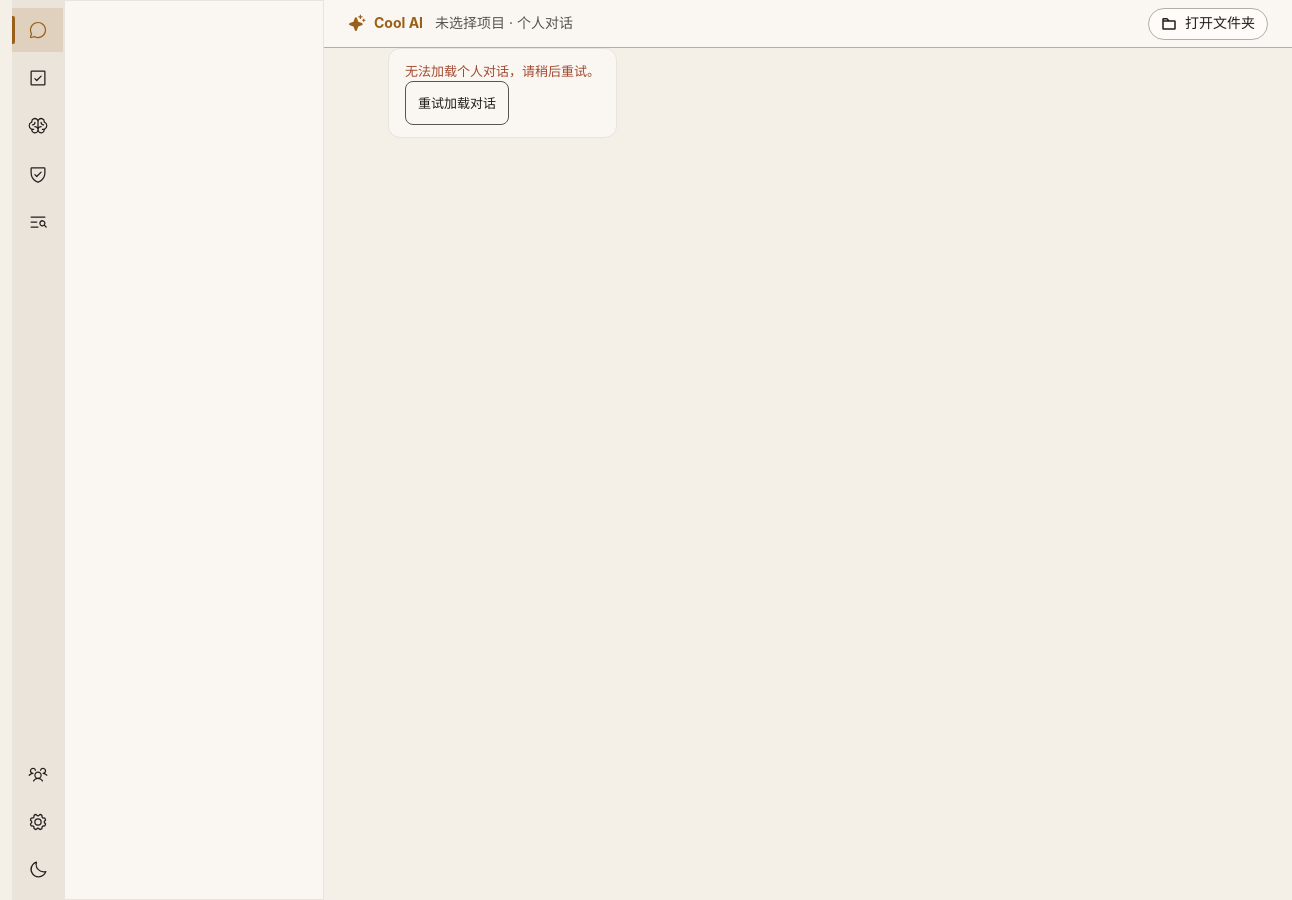
Test: home direct chat › shows a retryable home load error
Check: the message reads "无法加载个人对话，请稍后重试。", box left=405, top=63, right=600, bottom=79
Click the button "重试加载对话".
click(457, 103)  # box left=405, top=81, right=509, bottom=125
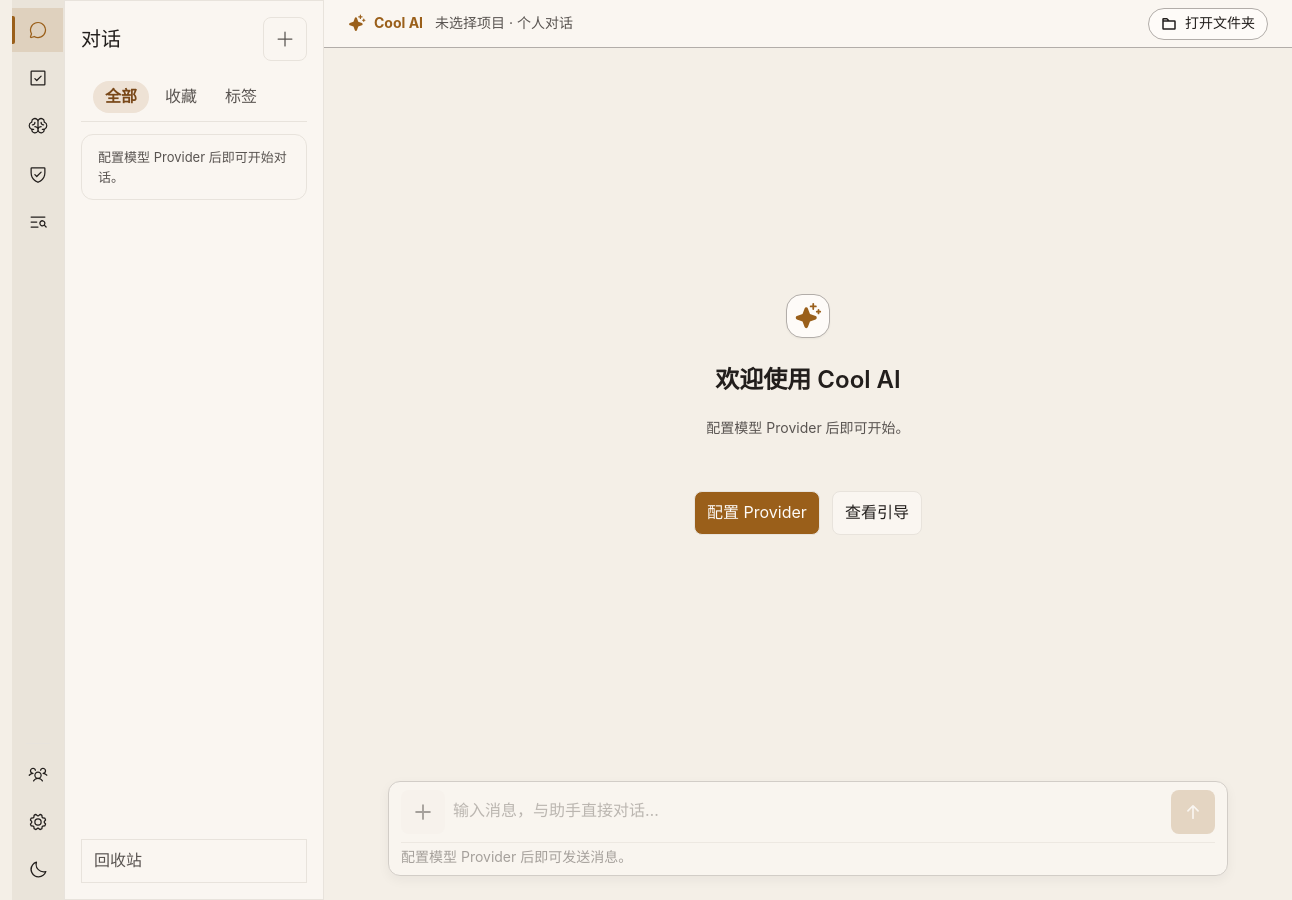
Check: the text "配置模型 Provider 后即可开始。" is shown, box left=706, top=418, right=910, bottom=438
